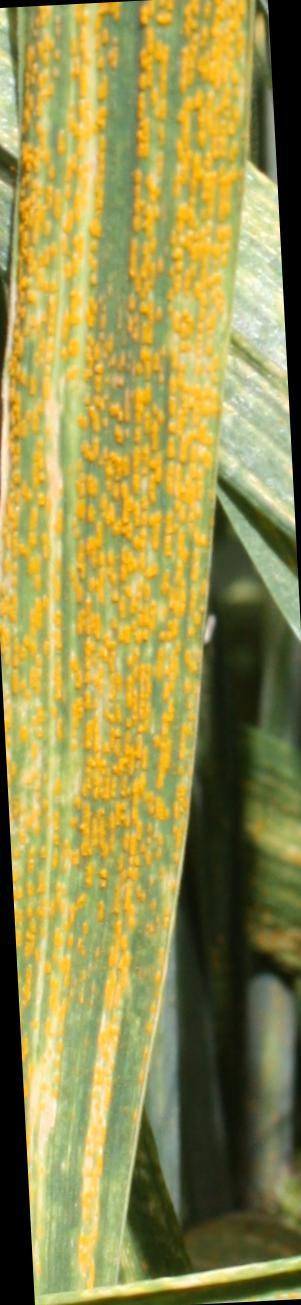Wheat: (11, 0, 271, 1050)
